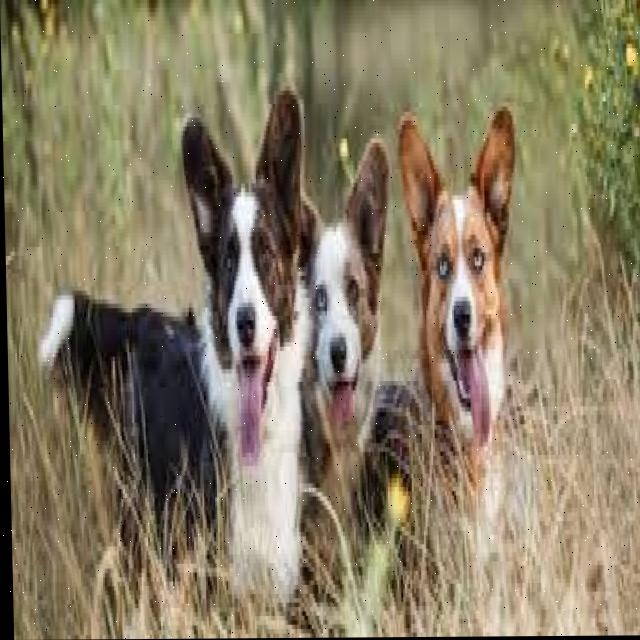CORGI: (26, 62, 329, 596), (361, 103, 543, 557), (286, 132, 403, 521)
